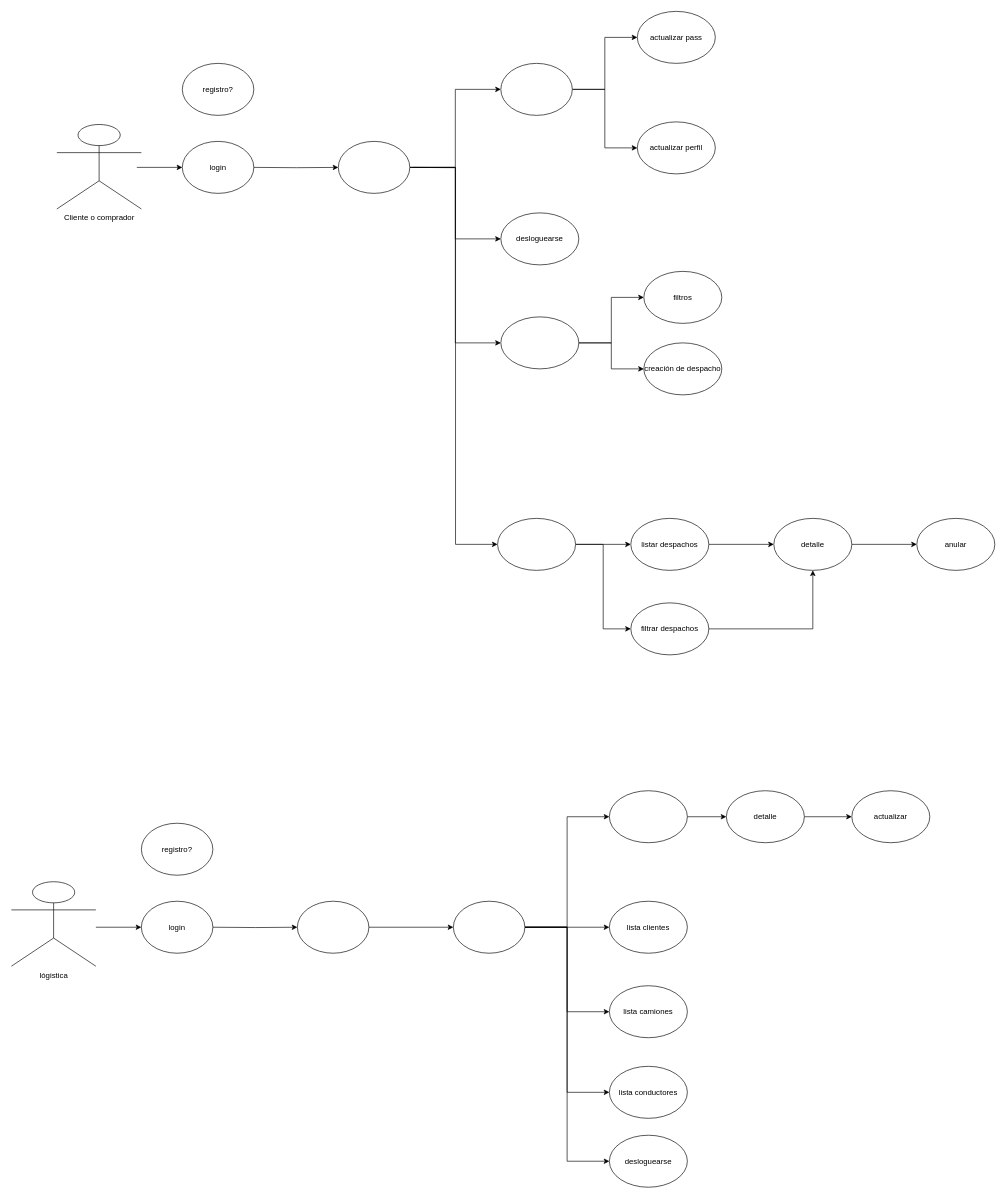
Some shapes in this 1006 by 1199 pixel diagram are drawn without their labels. Each missing label, with the centre of its shape:
"consultar pedidos" goes at (539,342).
"Dashboard" goes at (374,167).
"Dashboard Vtex Admin" goes at (333,927).
"despachos" goes at (489,927).
"lista despachos" goes at (648,816).
"perfil de usuario" goes at (536,89).
"reserva" goes at (536,544).
